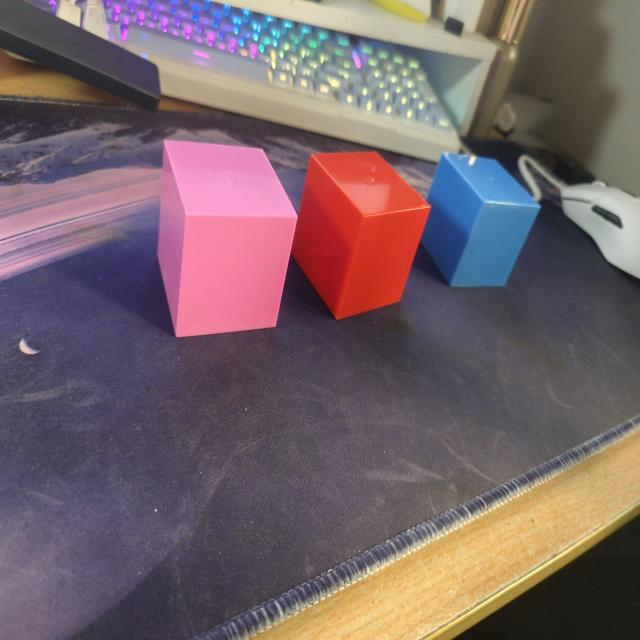blue: (435, 144, 543, 296)
pink: (154, 137, 300, 342)
red: (307, 142, 433, 322)
